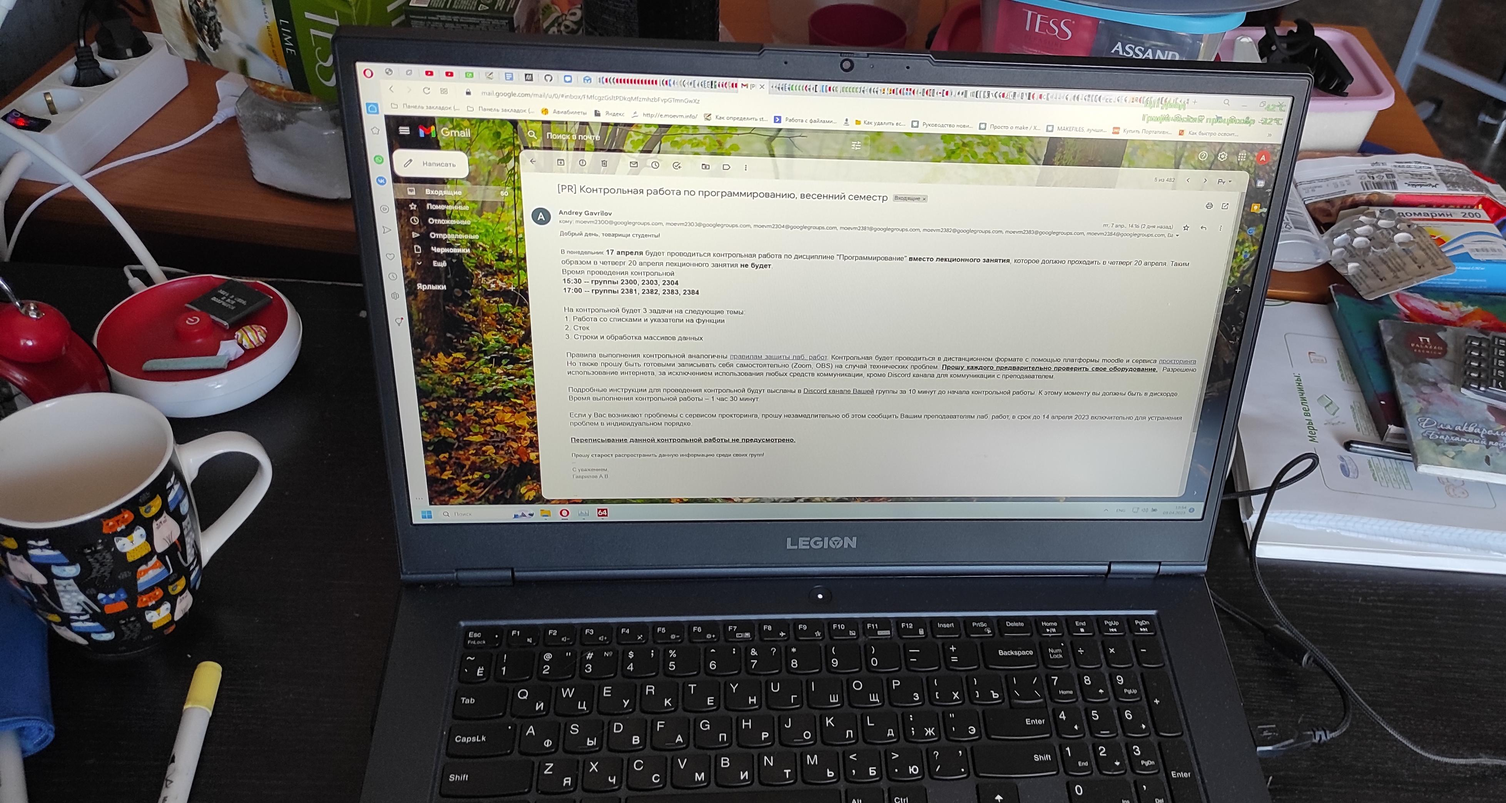monitor: (334, 22, 1315, 586)
